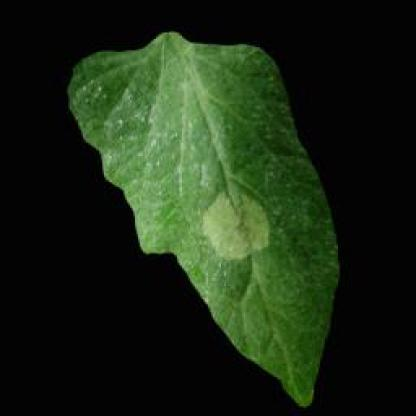bad leaf: (39, 28, 366, 413)
